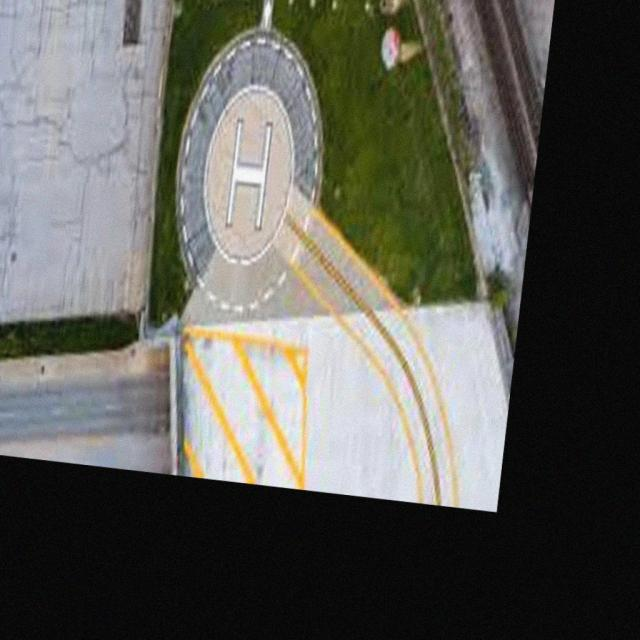helipad: (197, 76, 297, 267)
